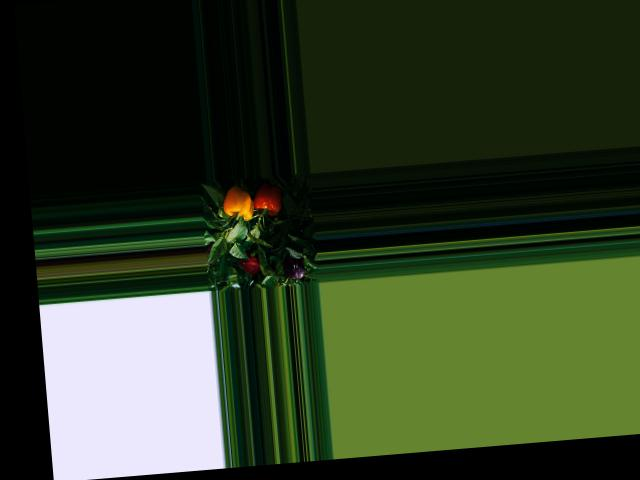bell_pepper: (221, 185, 262, 223)
